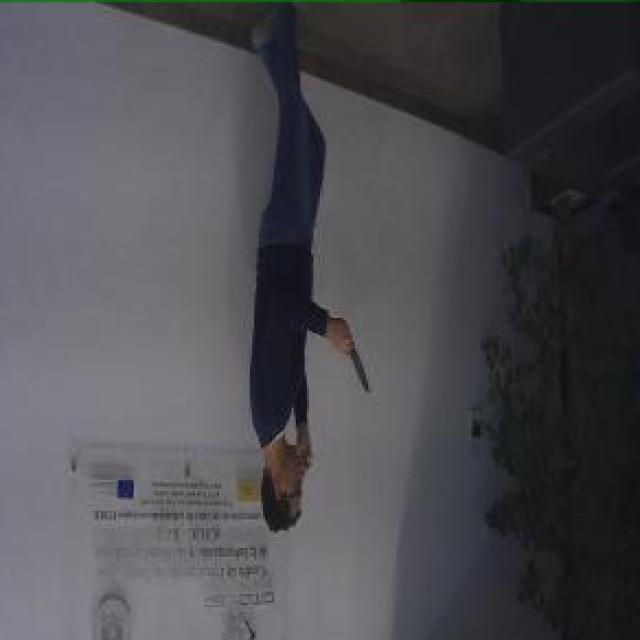knife: (340, 319, 372, 397)
